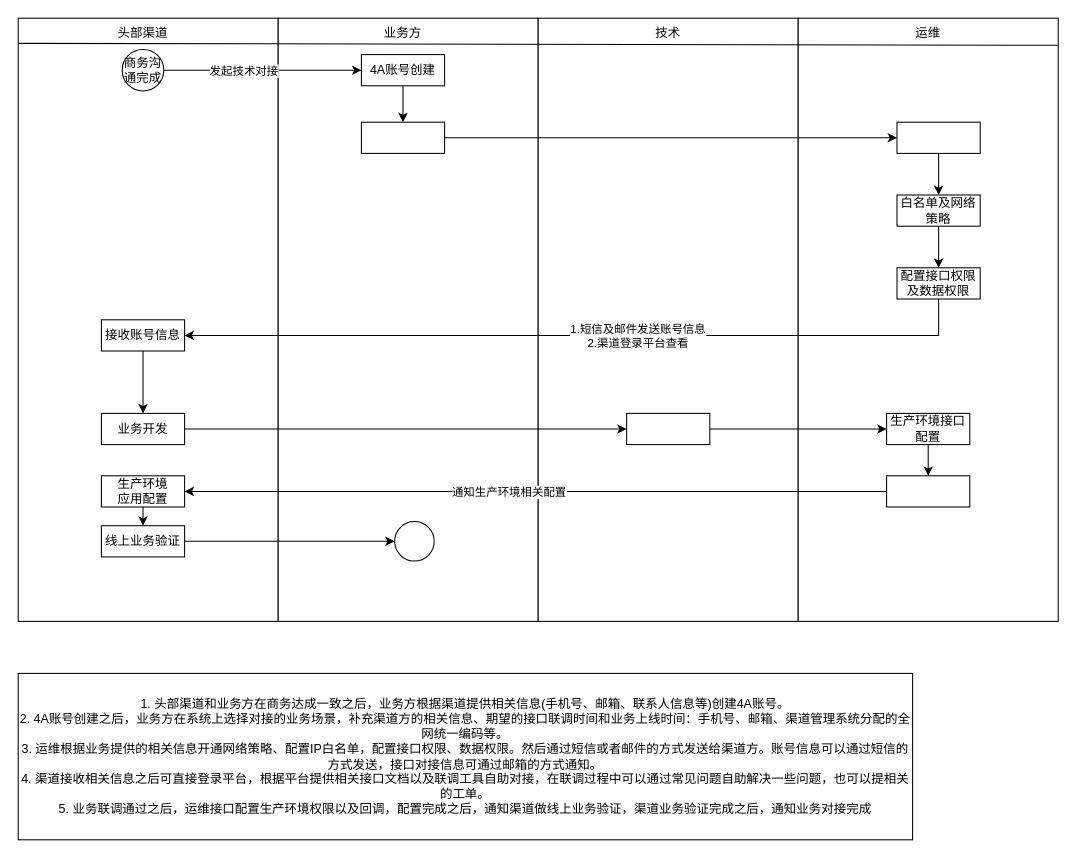
The diagram is 1077 pixels wide and 858 high, and some of its shapes have lost their labels. Here are the shapes that lost their labels. From the top down, the centre of each, then its label:
pixel 402 137: 提供对接 业务信息
pixel 938 137: 创建应用
pixel 668 428: 业务联调
pixel 928 491: 回调配置
pixel 414 541: 完成
